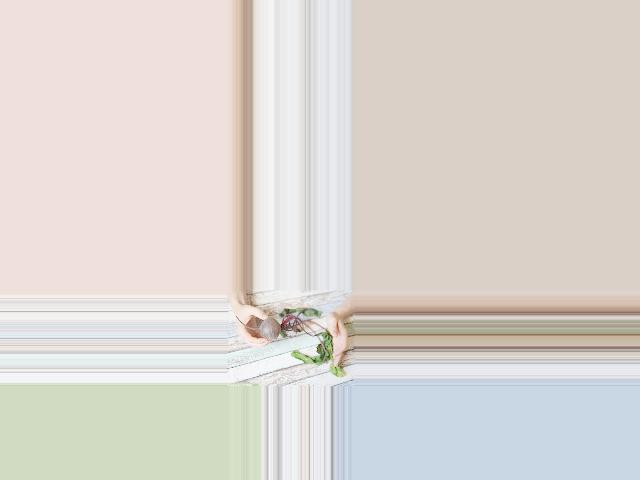beet: (235, 308, 344, 377)
